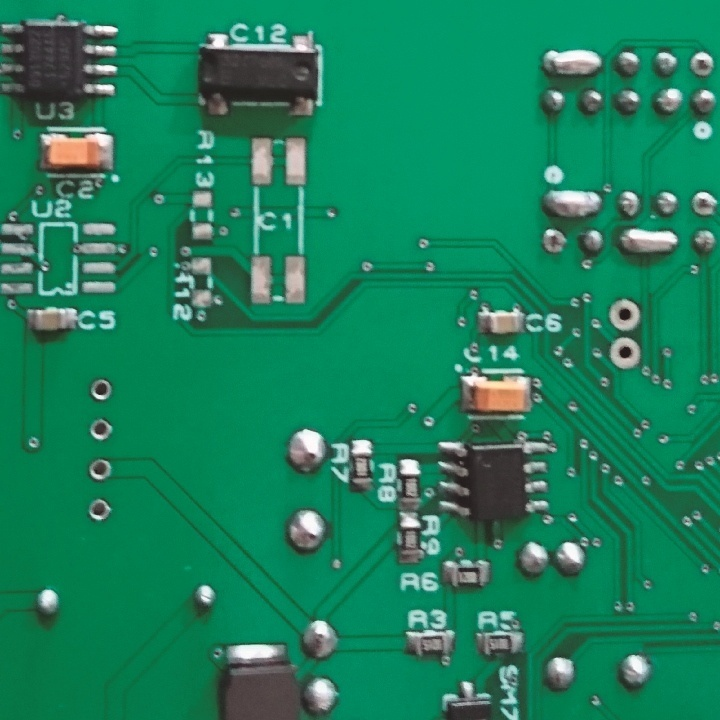F: (607, 295, 641, 334), (609, 335, 641, 374), (84, 453, 113, 488), (686, 49, 719, 79), (690, 188, 720, 221), (537, 226, 567, 255), (85, 495, 113, 523), (87, 416, 115, 443), (87, 376, 113, 403)
P: (618, 224, 681, 260), (540, 46, 603, 79), (543, 188, 602, 219)
